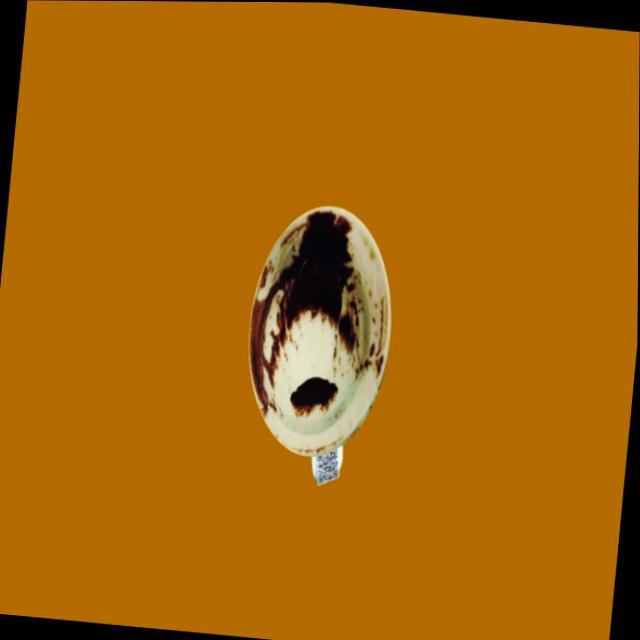cup: (233, 194, 404, 495)
